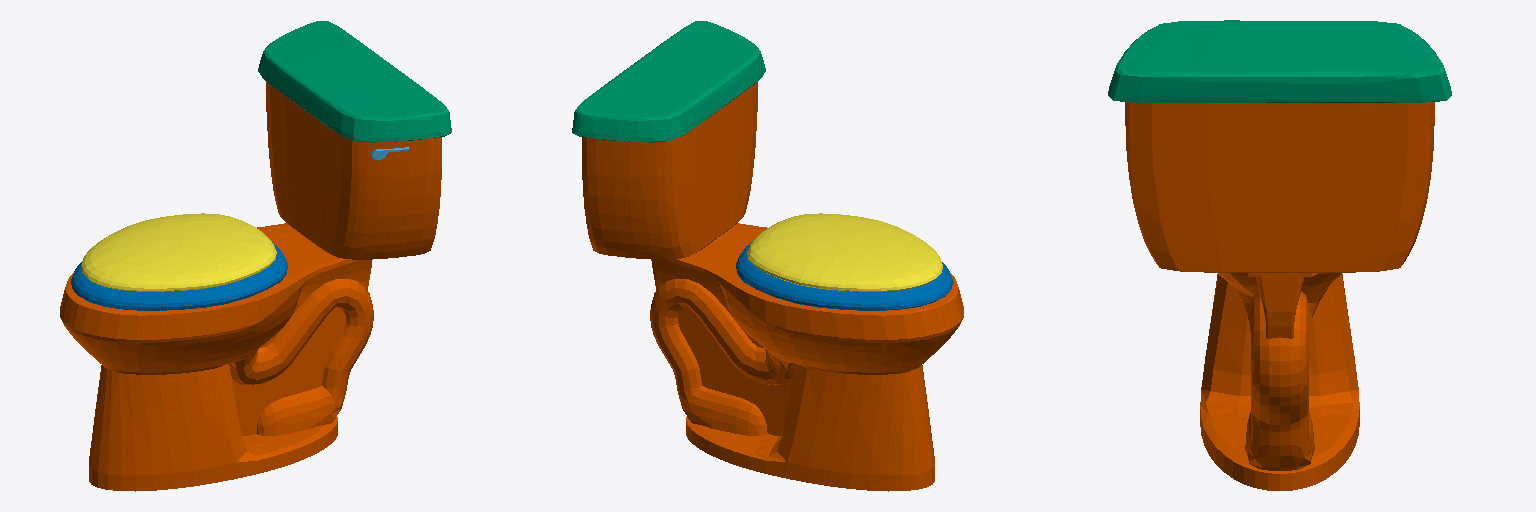
robot.urdf — partnet_92387f90212362d32d349de799b8819e:
<robot name="partnet_92387f90212362d32d349de799b8819e">
	<link name="base" />
	<link name="link_0">
		<collision>
			<origin xyz="-0.39086251658792626 -0.5746542553614936 0.30482480828975866" />
			<geometry>
				<mesh filename="new_objs/102670_link_0_2.obj" />
			</geometry>
		</collision>
	<collision>
			<origin xyz="-0.39086251658792626 -0.5746542553614936 0.30482480828975866" />
			<geometry>
				<mesh filename="new_objs/102670_link_0_0.obj" />
			</geometry>
		</collision>
	<collision>
			<origin xyz="-0.39086251658792626 -0.5746542553614936 0.30482480828975866" />
			<geometry>
				<mesh filename="new_objs/102670_link_0_1.obj" />
			</geometry>
		</collision>
	<visual name="button-part[&quot;id]">
			<origin xyz="-0.39086251658792626 -0.5746542553614936 0.30482480828975866" />
			<geometry>
				<mesh filename="textured_objs/original-5.obj" />
			</geometry>
		</visual>
		</link>
	<joint name="joint_0" type="revolute">
		<origin xyz="0.39086251658792626 0.5746542553614936 -0.30482480828975866" />
		<axis xyz="-0.9189143089727548 0.015542484983929261 -0.39415088979431356" />
		<child link="link_0" />
		<parent link="link_4" />
		<limit lower="0.0" upper="0.5235987755982988" />
	</joint>
	<link name="link_1">
		<collision>
			<origin xyz="0 0 0" />
			<geometry>
				<mesh filename="new_objs/102670_link_1_0.obj" />
			</geometry>
		</collision>
	<visual name="lid-part[&quot;id]">
			<origin xyz="0 0 0" />
			<geometry>
				<mesh filename="textured_objs/original-1.obj" />
			</geometry>
		</visual>
		</link>
	<joint name="joint_1" type="prismatic">
		<origin xyz="0 0 0" />
		<axis xyz="0 1 0" />
		<child link="link_1" />
		<parent link="link_4" />
		<limit lower="0" upper="0.03" />
	</joint>
	<link name="link_2">
		<collision>
			<origin xyz="0 -0.08724787683692628 0.05851158501068125" />
			<geometry>
				<mesh filename="new_objs/102670_link_2_0.obj" />
			</geometry>
		</collision>
	<visual name="lid-part[&quot;id]">
			<origin xyz="0 -0.08724787683692628 0.05851158501068125" />
			<geometry>
				<mesh filename="textured_objs/original-6.obj" />
			</geometry>
		</visual>
		</link>
	<joint name="joint_2" type="revolute">
		<origin xyz="0 0.08724787683692628 -0.05851158501068125" />
		<axis xyz="-1 0 0" />
		<child link="link_2" />
		<parent link="link_4" />
		<limit lower="-0.0" upper="1.6231562043547265" />
	</joint>
	<link name="link_3">
		<collision>
			<origin xyz="0 -0.08724787683692628 0.05851158501068125" />
			<geometry>
				<mesh filename="new_objs/102670_link_3_0.obj" />
			</geometry>
		</collision>
	<visual name="seat-part[&quot;id]">
			<origin xyz="0 -0.08724787683692628 0.05851158501068125" />
			<geometry>
				<mesh filename="textured_objs/original-7.obj" />
			</geometry>
		</visual>
		</link>
	<joint name="joint_3" type="revolute">
		<origin xyz="0 0.08724787683692628 -0.05851158501068125" />
		<axis xyz="-1 0 0" />
		<child link="link_3" />
		<parent link="link_4" />
		<limit lower="-0.0" upper="1.6231562043547265" />
	</joint>
	<link name="link_4">
		<collision>
			<origin xyz="0 0 0" />
			<geometry>
				<mesh filename="new_objs/102670_link_4_0.obj" />
			</geometry>
		</collision>
		<collision>
			<origin xyz="0 0 0" />
			<geometry>
				<mesh filename="new_objs/102670_link_4_13.obj" />
			</geometry>
		</collision>
		<collision>
			<origin xyz="0 0 0" />
			<geometry>
				<mesh filename="new_objs/102670_link_4_9.obj" />
			</geometry>
		</collision>
		<collision>
			<origin xyz="0 0 0" />
			<geometry>
				<mesh filename="new_objs/102670_link_4_8.obj" />
			</geometry>
		</collision>
		<collision>
			<origin xyz="0 0 0" />
			<geometry>
				<mesh filename="new_objs/102670_link_4_6.obj" />
			</geometry>
		</collision>
		<collision>
			<origin xyz="0 0 0" />
			<geometry>
				<mesh filename="new_objs/102670_link_4_1.obj" />
			</geometry>
		</collision>
		<collision>
			<origin xyz="0 0 0" />
			<geometry>
				<mesh filename="new_objs/102670_link_4_3.obj" />
			</geometry>
		</collision>
		<collision>
			<origin xyz="0 0 0" />
			<geometry>
				<mesh filename="new_objs/102670_link_4_7.obj" />
			</geometry>
		</collision>
		<collision>
			<origin xyz="0 0 0" />
			<geometry>
				<mesh filename="new_objs/102670_link_4_18.obj" />
			</geometry>
		</collision>
		<collision>
			<origin xyz="0 0 0" />
			<geometry>
				<mesh filename="new_objs/102670_link_4_19.obj" />
			</geometry>
		</collision>
		<collision>
			<origin xyz="0 0 0" />
			<geometry>
				<mesh filename="new_objs/102670_link_4_16.obj" />
			</geometry>
		</collision>
		<collision>
			<origin xyz="0 0 0" />
			<geometry>
				<mesh filename="new_objs/102670_link_4_12.obj" />
			</geometry>
		</collision>
		<collision>
			<origin xyz="0 0 0" />
			<geometry>
				<mesh filename="new_objs/102670_link_4_20.obj" />
			</geometry>
		</collision>
		<collision>
			<origin xyz="0 0 0" />
			<geometry>
				<mesh filename="new_objs/102670_link_4_5.obj" />
			</geometry>
		</collision>
		<collision>
			<origin xyz="0 0 0" />
			<geometry>
				<mesh filename="new_objs/102670_link_4_2.obj" />
			</geometry>
		</collision>
		<collision>
			<origin xyz="0 0 0" />
			<geometry>
				<mesh filename="new_objs/102670_link_4_15.obj" />
			</geometry>
		</collision>
		<collision>
			<origin xyz="0 0 0" />
			<geometry>
				<mesh filename="new_objs/102670_link_4_14.obj" />
			</geometry>
		</collision>
		<collision>
			<origin xyz="0 0 0" />
			<geometry>
				<mesh filename="new_objs/102670_link_4_11.obj" />
			</geometry>
		</collision>
		<collision>
			<origin xyz="0 0 0" />
			<geometry>
				<mesh filename="new_objs/102670_link_4_4.obj" />
			</geometry>
		</collision>
		<collision>
			<origin xyz="0 0 0" />
			<geometry>
				<mesh filename="new_objs/102670_link_4_10.obj" />
			</geometry>
		</collision>
		<collision>
			<origin xyz="0 0 0" />
			<geometry>
				<mesh filename="new_objs/102670_link_4_21.obj" />
			</geometry>
		</collision>
		<collision>
			<origin xyz="0 0 0" />
			<geometry>
				<mesh filename="new_objs/102670_link_4_17.obj" />
			</geometry>
		</collision>
		<visual name="base_body-part[&quot;id]">
			<origin xyz="0 0 0" />
			<geometry>
				<mesh filename="textured_objs/original-4.obj" />
			</geometry>
		</visual>
		<visual name="base_body-part[&quot;id]">
			<origin xyz="0 0 0" />
			<geometry>
				<mesh filename="textured_objs/original-3.obj" />
			</geometry>
		</visual>
		<visual name="base_body-part[&quot;id]">
			<origin xyz="0 0 0" />
			<geometry>
				<mesh filename="textured_objs/original-2.obj" />
			</geometry>
		</visual>
		</link>
	<joint name="joint_4" type="fixed">
		<origin rpy="1.570796326794897 0 -1.570796326794897" xyz="0 0 0" />
		<child link="link_4" />
		<parent link="base" />
	</joint>
</robot>

--- Facts derived from the render (not from the file) ---
3 views of the same robot in one strip: view 1: azimuth 30°, elevation 25°; view 2: azimuth 150°, elevation 25°; view 3: azimuth 270°, elevation 25° (orthographic).
Model partnet_92387f90212362d32d349de799b8819e with 6 links and 5 joints (3 revolute, 1 prismatic, 1 fixed), rooted at base, posed all joints at 0.
Links seen in each view (by area): view 1: link_4, link_1, link_2, link_3; view 2: link_4, link_1, link_2, link_3; view 3: link_4, link_1.
Link boxes in pixels (left/top/right/bottom): link_4: left=60, top=82, right=441, bottom=491; link_1: left=258, top=21, right=451, bottom=142; link_2: left=81, top=213, right=276, bottom=291; link_3: left=71, top=242, right=287, bottom=310; link_4: left=582, top=81, right=963, bottom=491; link_1: left=572, top=21, right=765, bottom=142; link_2: left=747, top=213, right=942, bottom=291; link_3: left=736, top=242, right=952, bottom=310; link_4: left=1125, top=102, right=1434, bottom=490; link_1: left=1108, top=20, right=1451, bottom=102.
Bounding box of the posed robot: 1.4 × 0.9857 × 1.44 m (x, y, z).
Meshes: 7 distinct files referenced, 7 mesh visuals loaded (7 OBJ).
